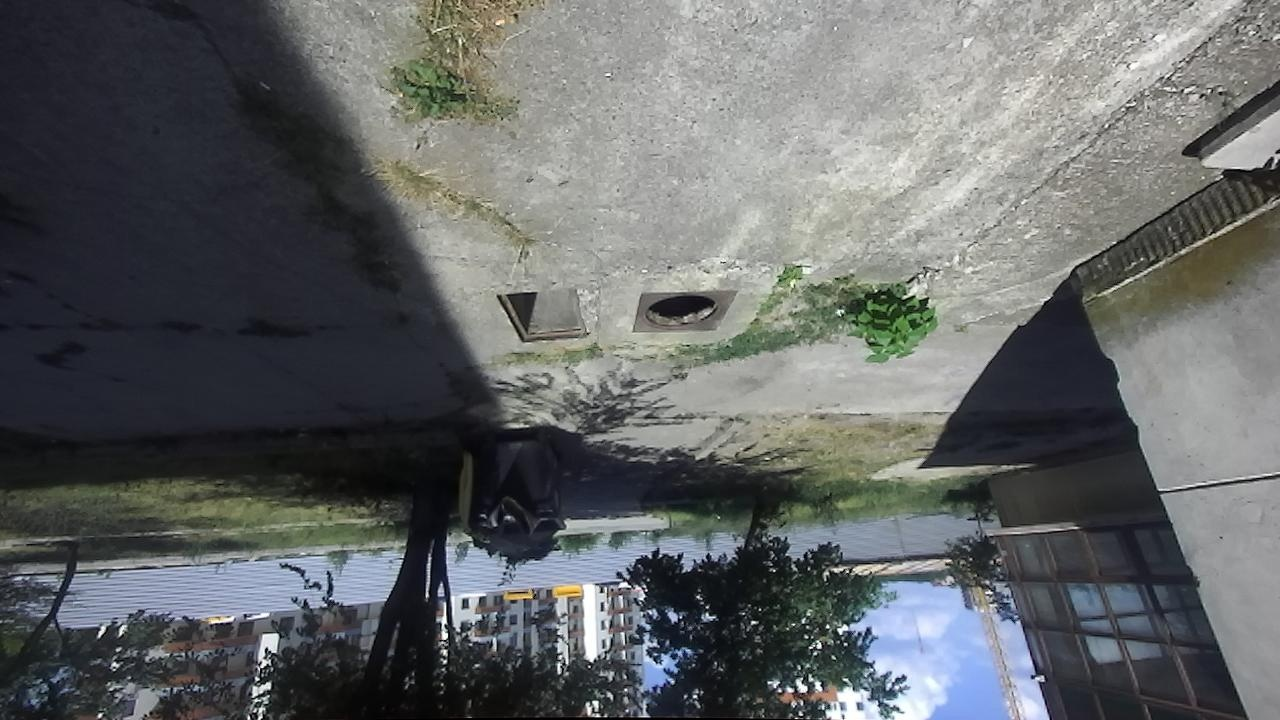drain: (494, 286, 591, 344), (637, 294, 722, 333)
